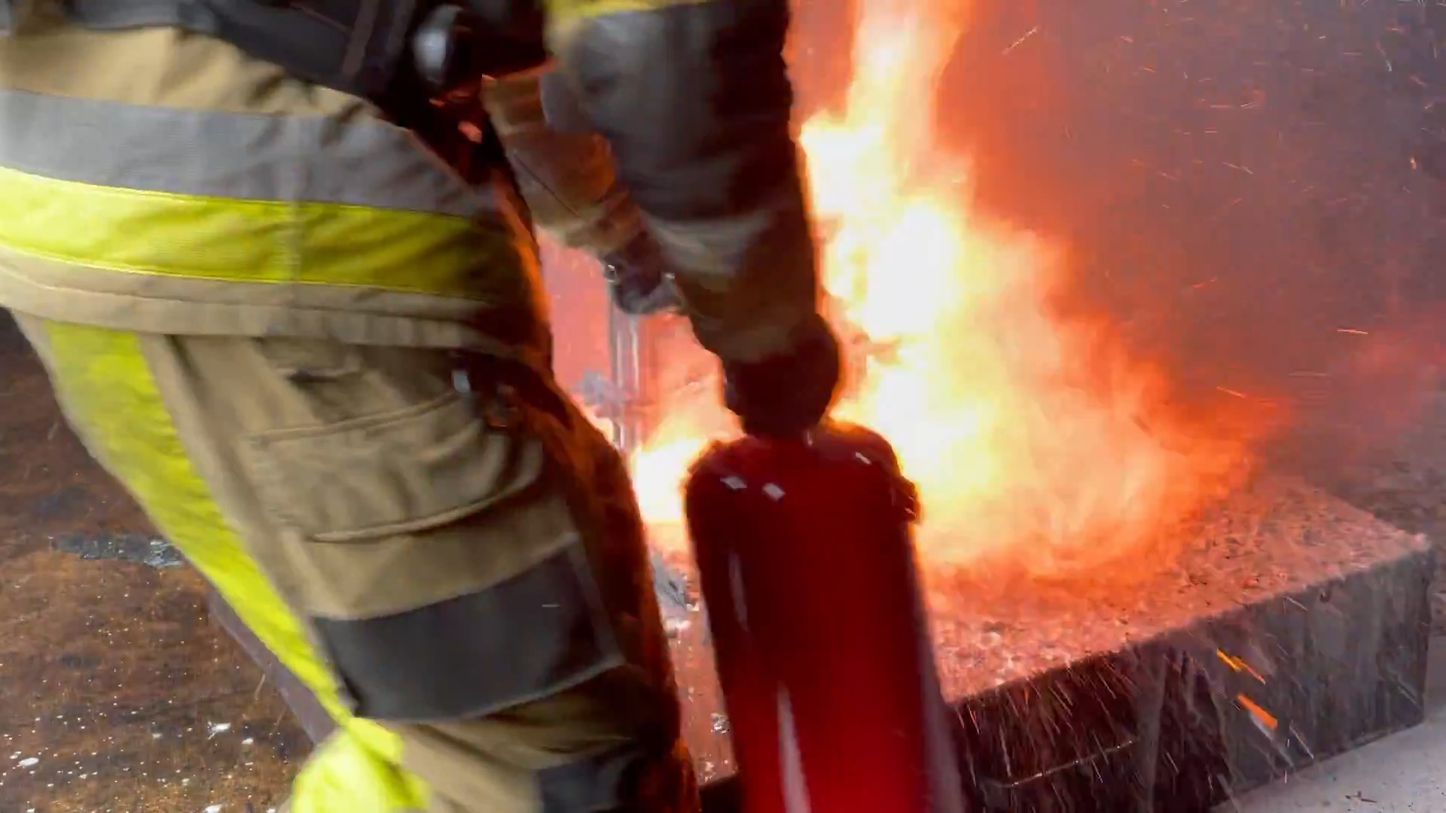fire: (784, 0, 1249, 610), (627, 379, 728, 557)
smoke: (936, 0, 1446, 437)
